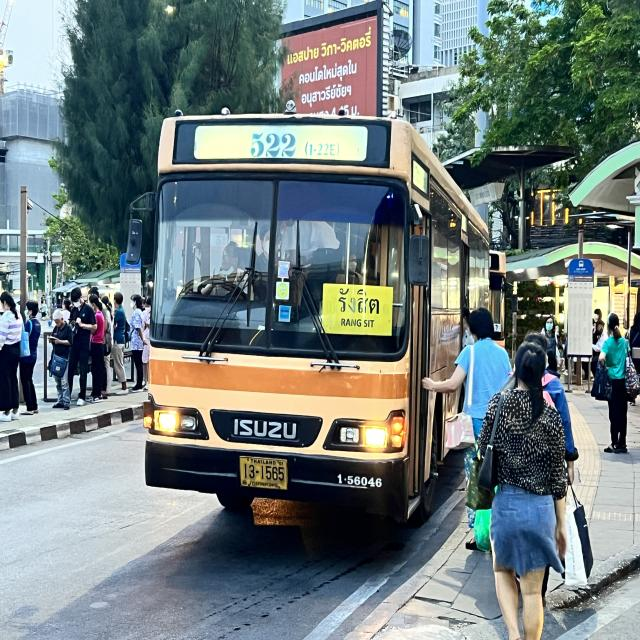Bus-Line-Number: (247, 126, 342, 164)
Destination-Sign-Normal: (322, 282, 395, 334)
Destination-Sign-Normal-Expressway: (137, 96, 496, 537)
